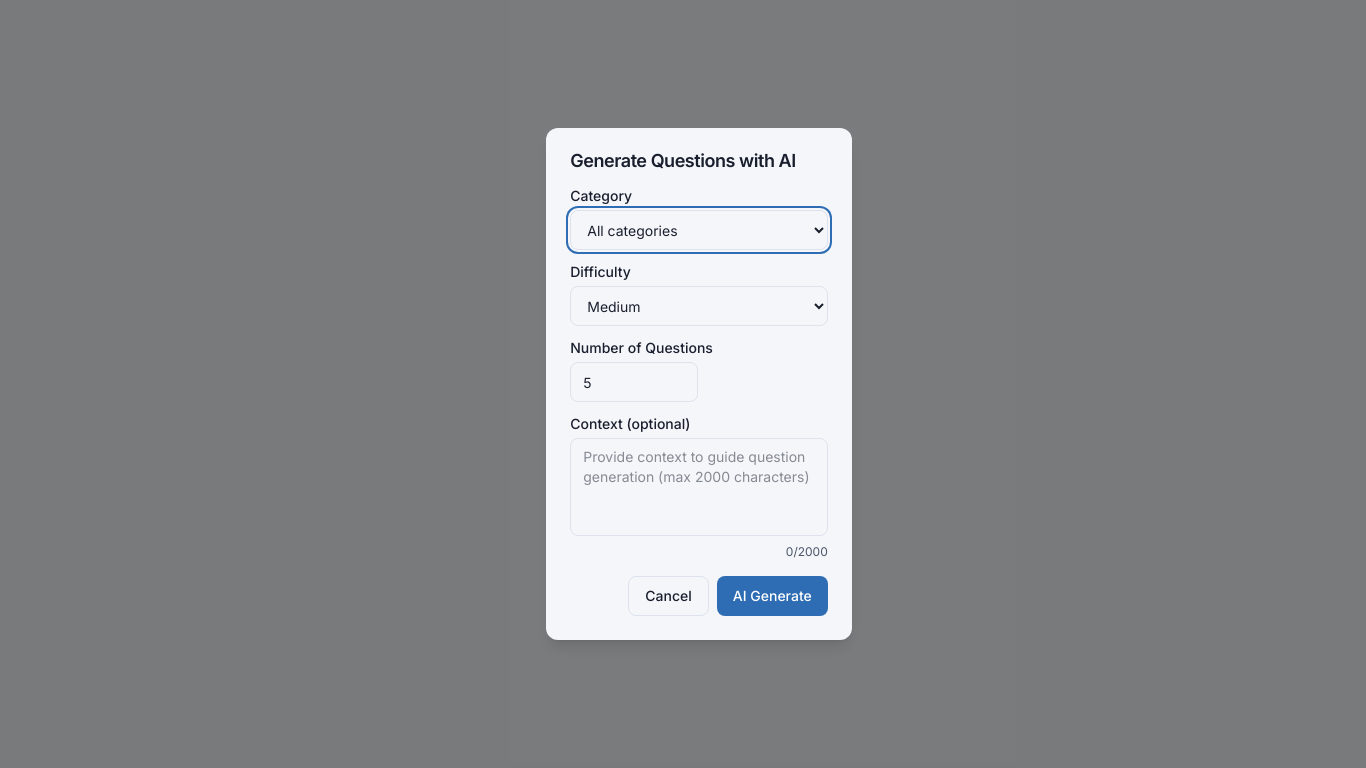
AIGenerateDialog › generate request › POSTs the form values to the generate endpoint
Select "Science" in the dropdown below "Category": (699, 230) [570,210,828,250]
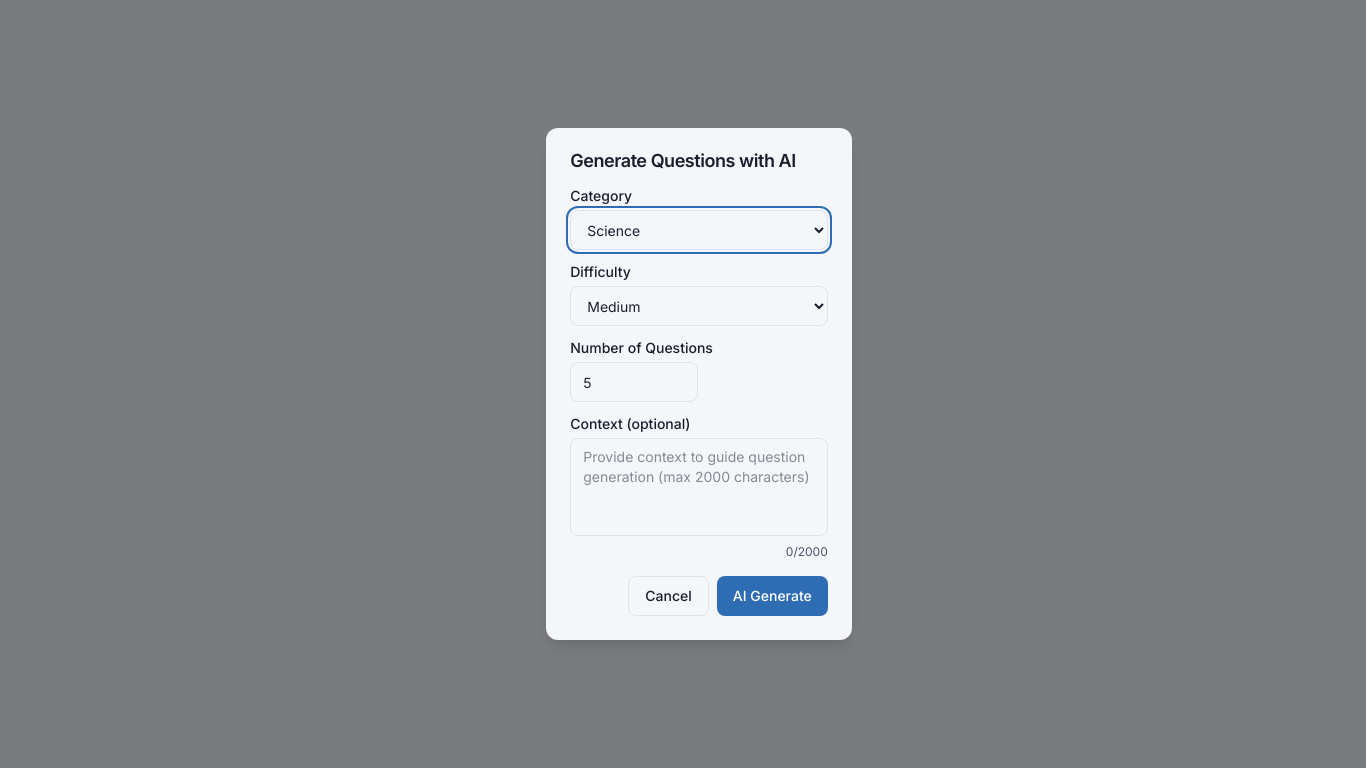
Select "Hard" in the dropdown below "Difficulty": (699, 306) [570,286,828,326]
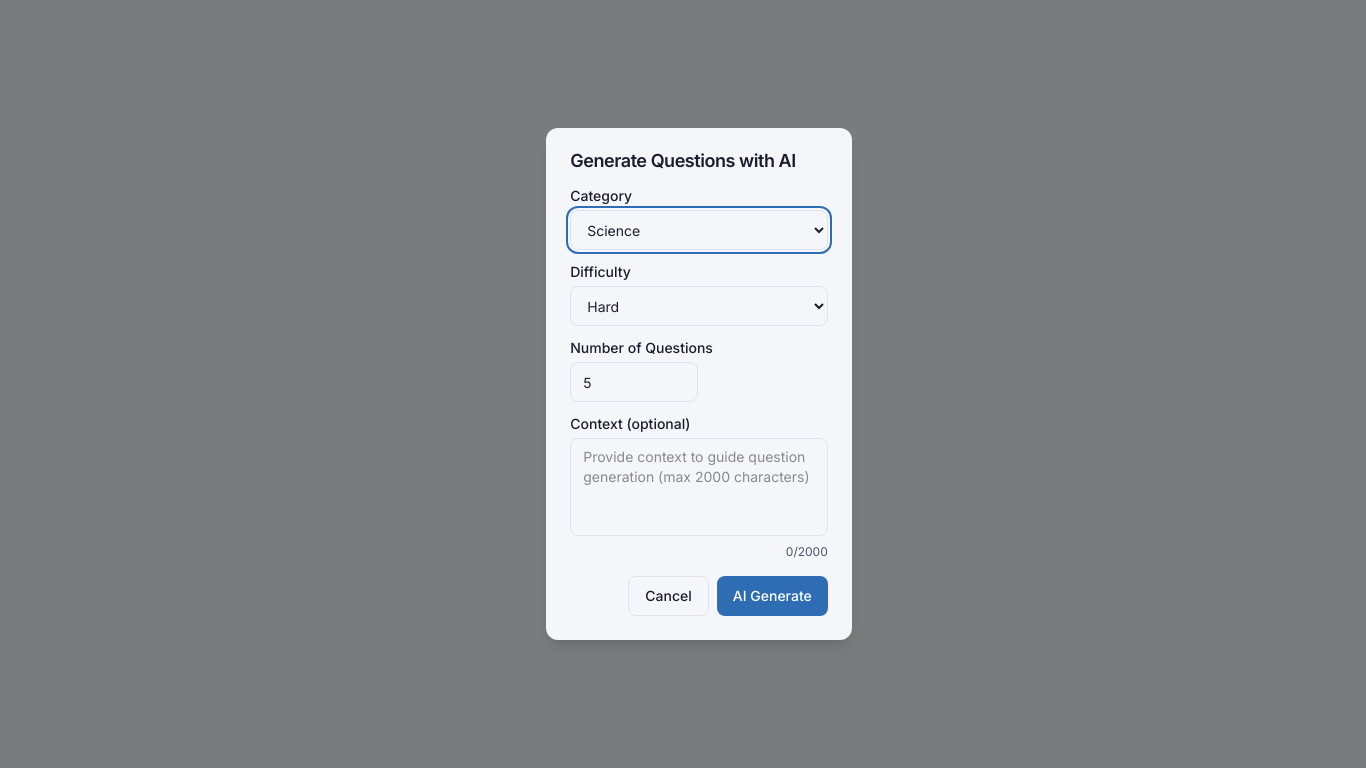
Replace the text in the number field with "3": (634, 382) [570,362,698,402]
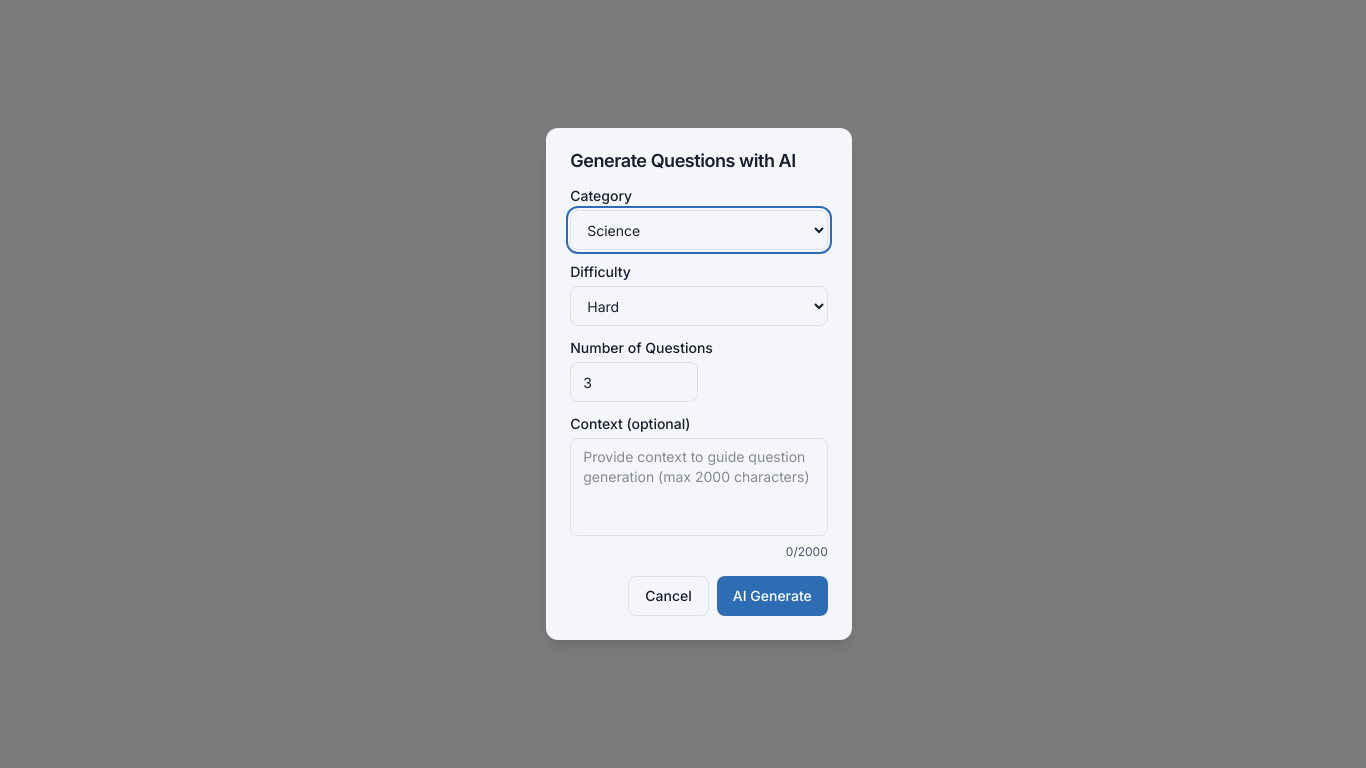
Replace the text in the text box with "Focus on the water cycle": (699, 487) [570,438,828,536]
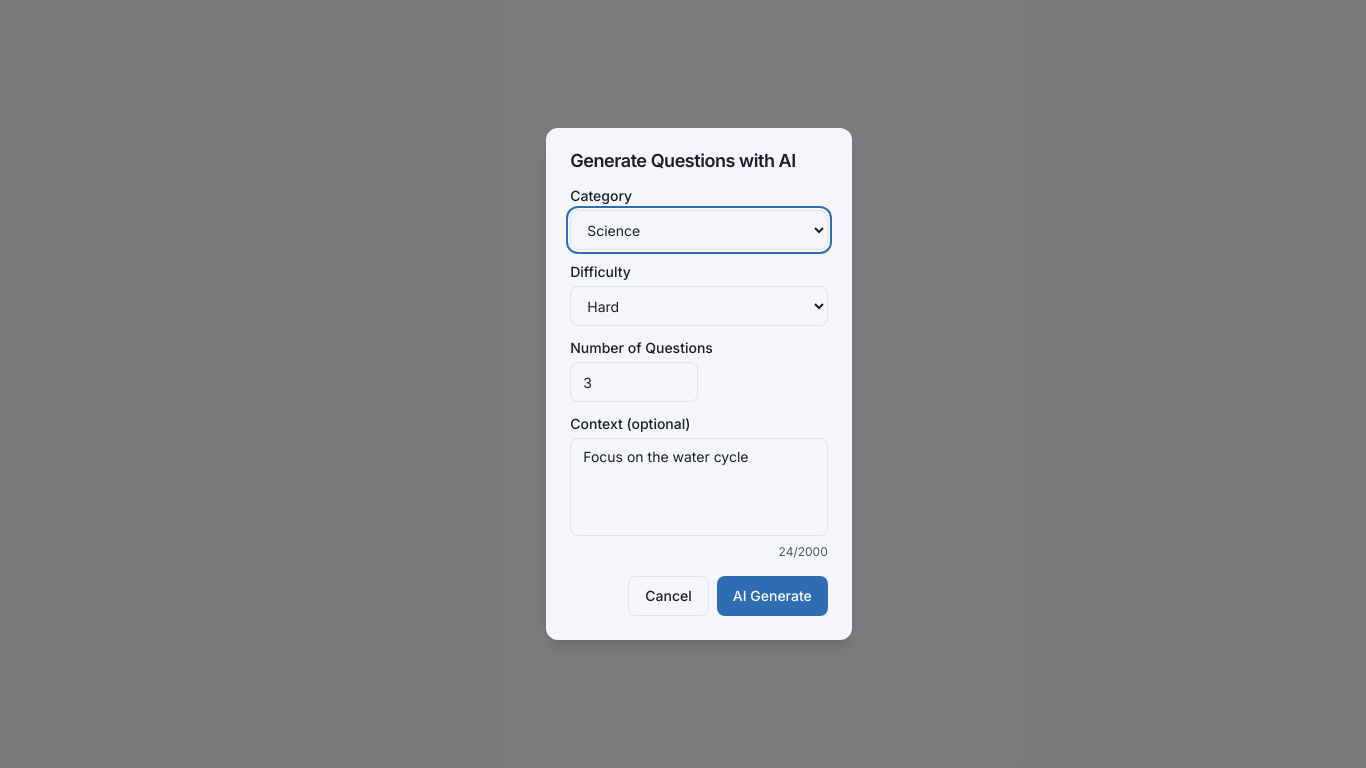
Click the button "AI Generate": (772, 596) [717,576,828,616]
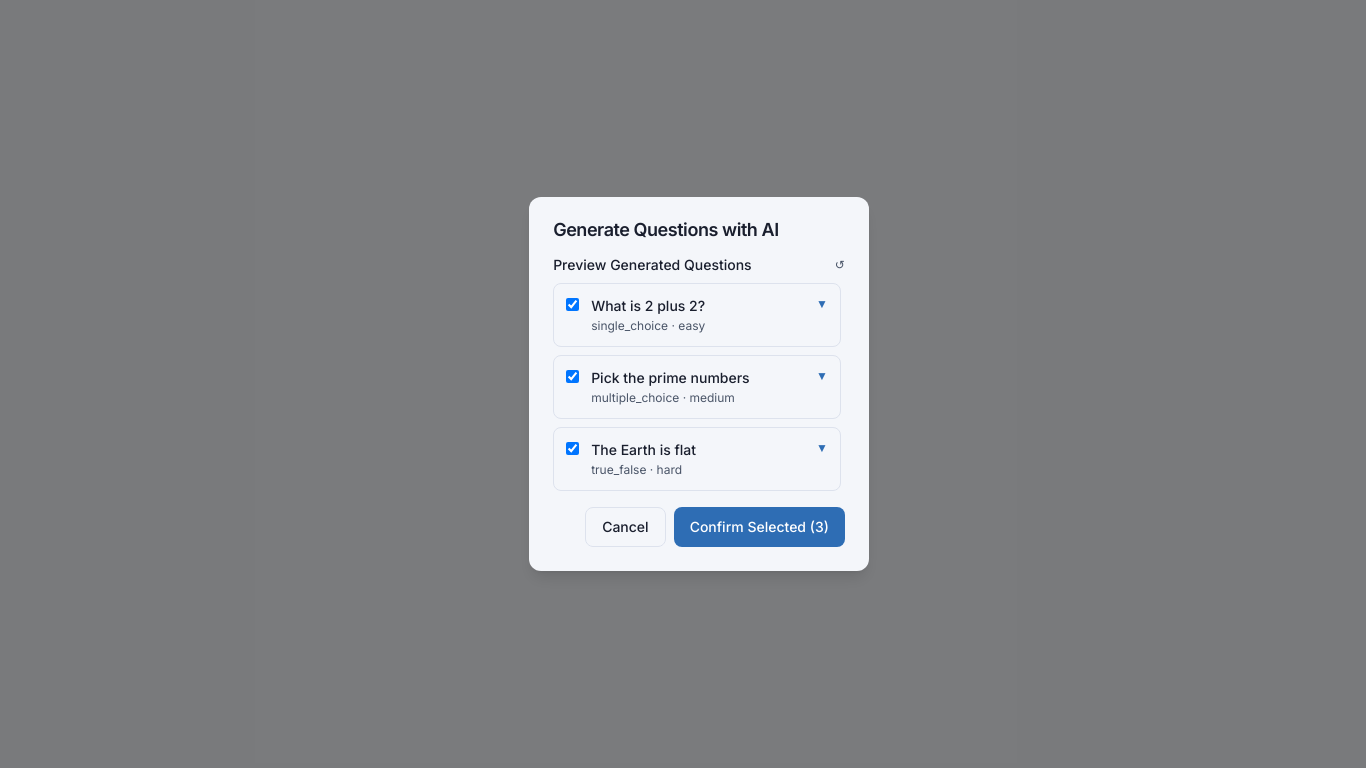
Now the text "Preview Generated Questions" is shown, box [553,255,752,275]
